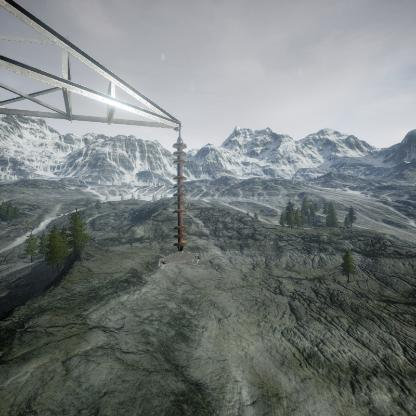insulator: (171, 136, 188, 251)
